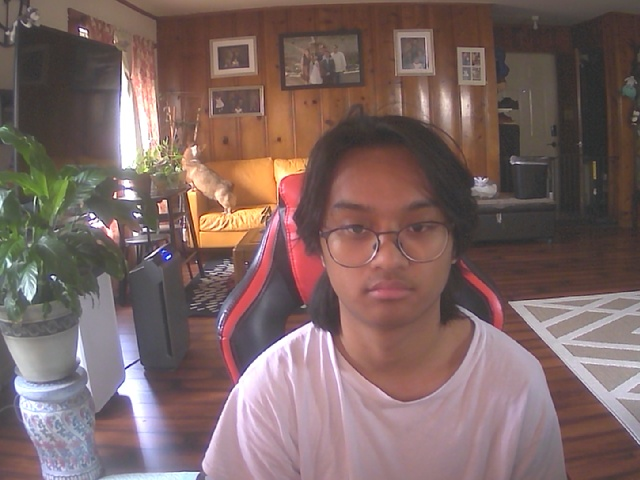neutral: (315, 120, 466, 329)
